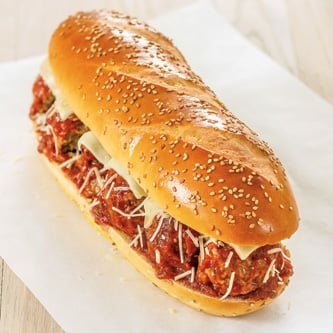soup: (24, 4, 304, 303)
